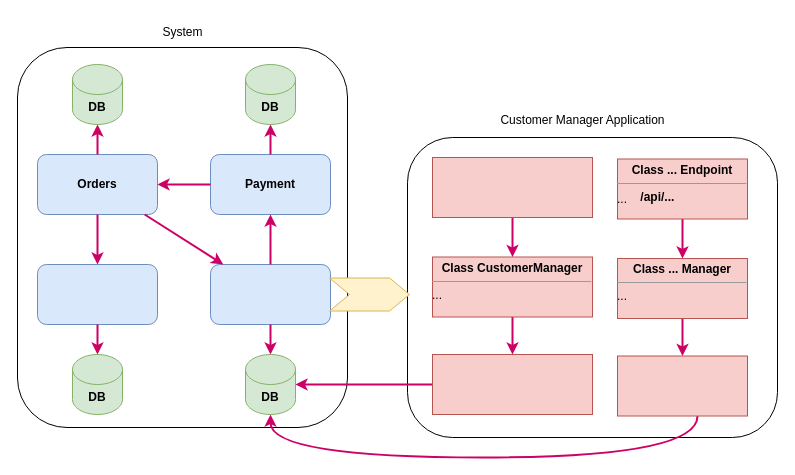
The diagram is 795 pixels wide and 475 high, and some of its shapes have lost their labels. Each missing label, with the centre of its shape:
Class ... Repository ..;: (x=682, y=385)
Class CustomerEndpoint /api/customer: (x=512, y=187)
Class CustomerRepository ..;: (x=512, y=384)
Customer: (x=270, y=294)
Inventory: (x=97, y=294)
